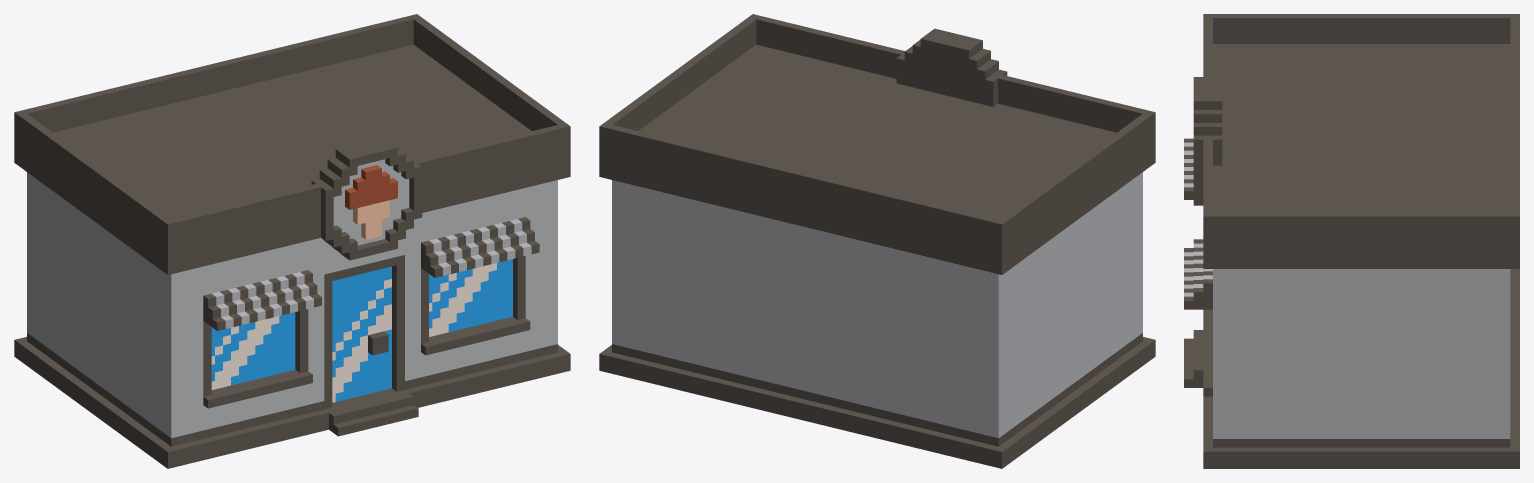
File: icecream_shop_b.obj
3 renders of one model, left to right at view 1: azimuth 30°, elevation 25°; view 2: azimuth 150°, elevation 25°; view 3: azimuth 270°, elevation 25°, orthographic. The views are drawn at different scales.
Bounding box in the file's own units: 5 × 3.2 × 3.5.
Materials: 1 (1 with a texture image).
